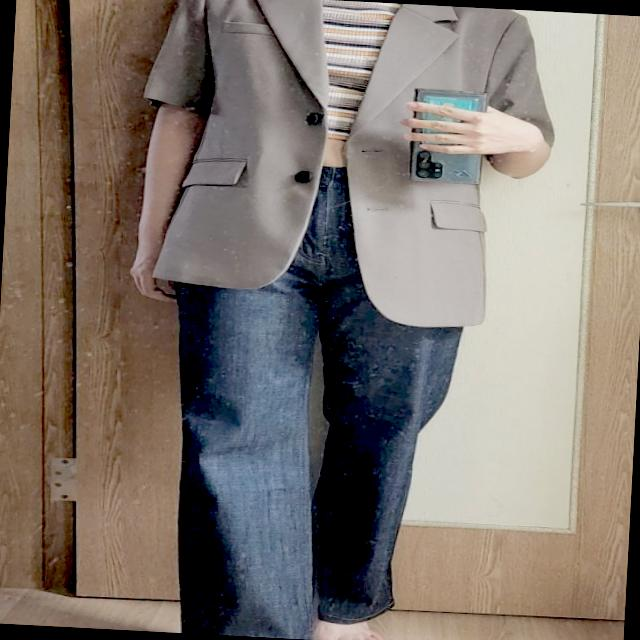blazer: (127, 0, 560, 334)
denimpants: (153, 154, 477, 640)
